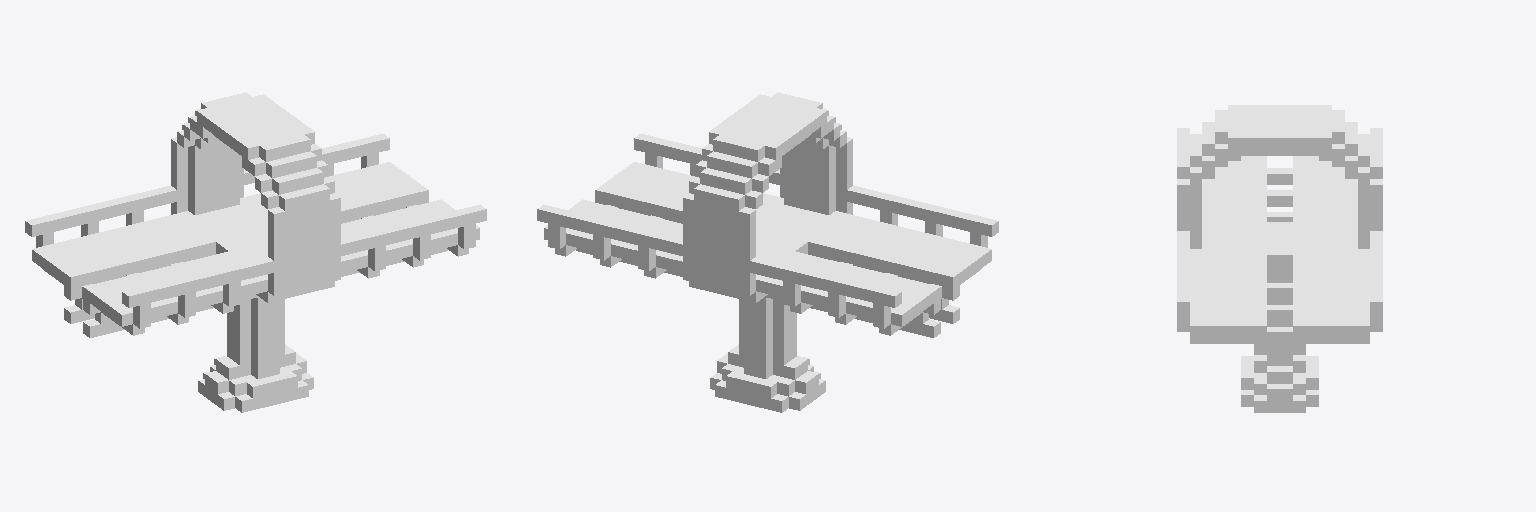
Rendered from bridgeDirect.obj.
3 views of the same model, side by side, from view 1: azimuth 30°, elevation 25°; view 2: azimuth 150°, elevation 25°; view 3: azimuth 270°, elevation 25° (orthographic).
Visible parts, largest first — view 1: bridgeDirect; view 2: bridgeDirect; view 3: bridgeDirect.
Boxes of the visible parts, box(x1,y1,x2,y2) form: bridgeDirect: box(25, 92, 486, 412); bridgeDirect: box(537, 92, 998, 412); bridgeDirect: box(1177, 105, 1382, 412).
Bounding box in the file's own units: 3.2 × 2.3 × 1.6.